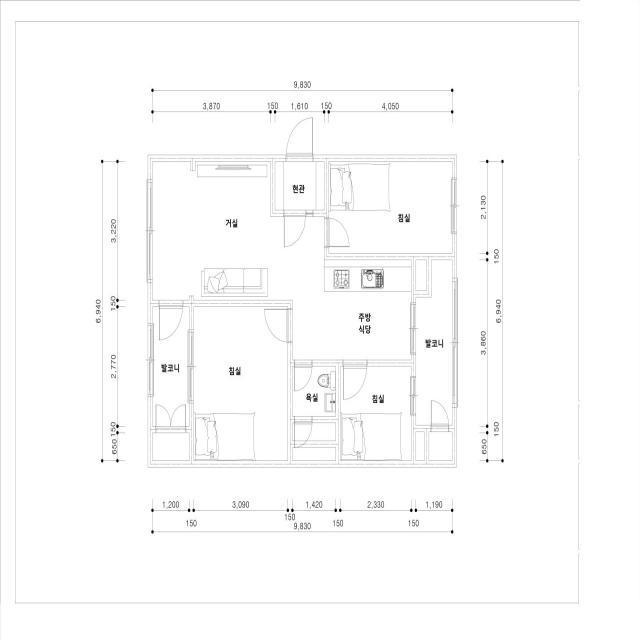space_balconi: (416, 260, 452, 425), (153, 307, 189, 426)
space_bedroom: (194, 307, 288, 460), (329, 162, 452, 253), (340, 366, 411, 461)
space_front: (275, 162, 324, 210)
space_kitchen: (324, 260, 411, 360)
space_living_room: (153, 162, 324, 360)
space_other: (153, 433, 189, 461), (429, 432, 452, 461), (292, 448, 336, 461), (416, 260, 426, 291), (416, 432, 424, 461)
space_toilet: (292, 366, 336, 416), (293, 423, 336, 441)
